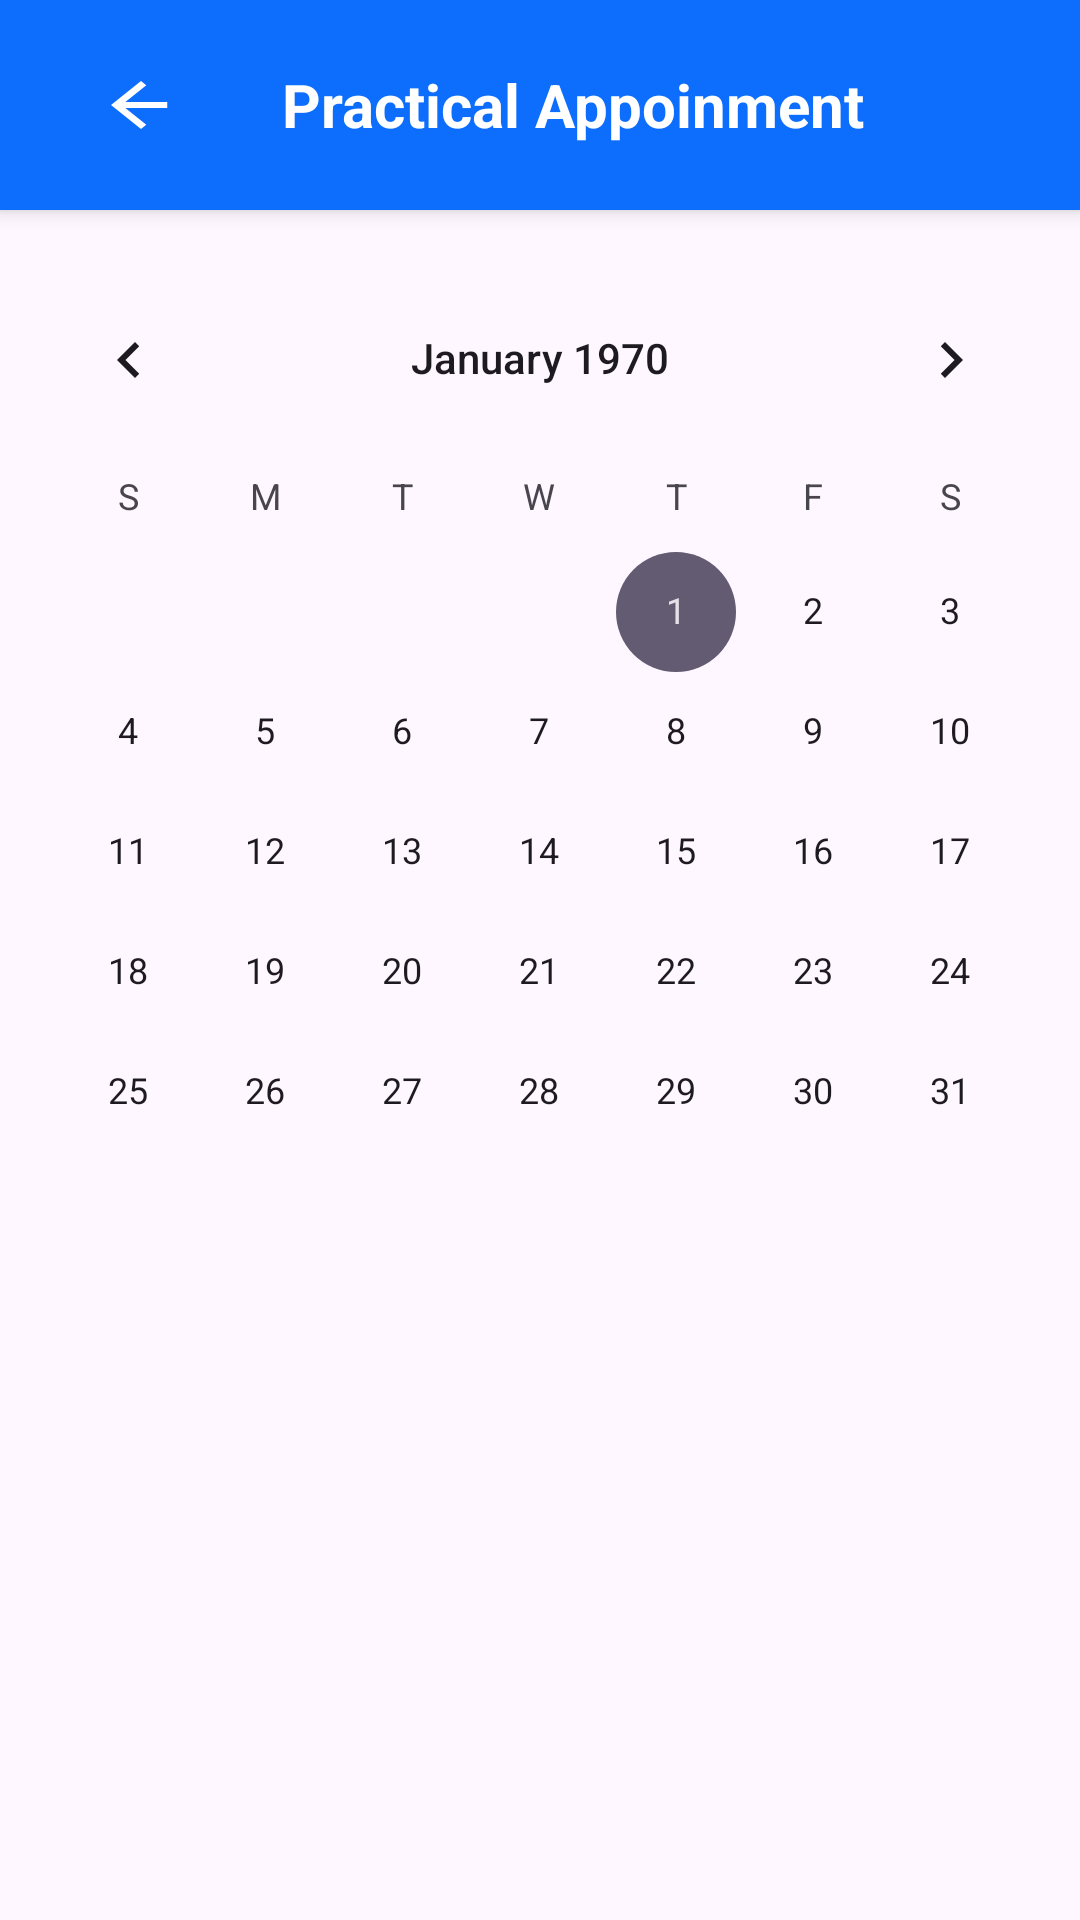

Named icons in this screenshot (1080*1920) and their centers, [x,y]:
Back: [139,105]
